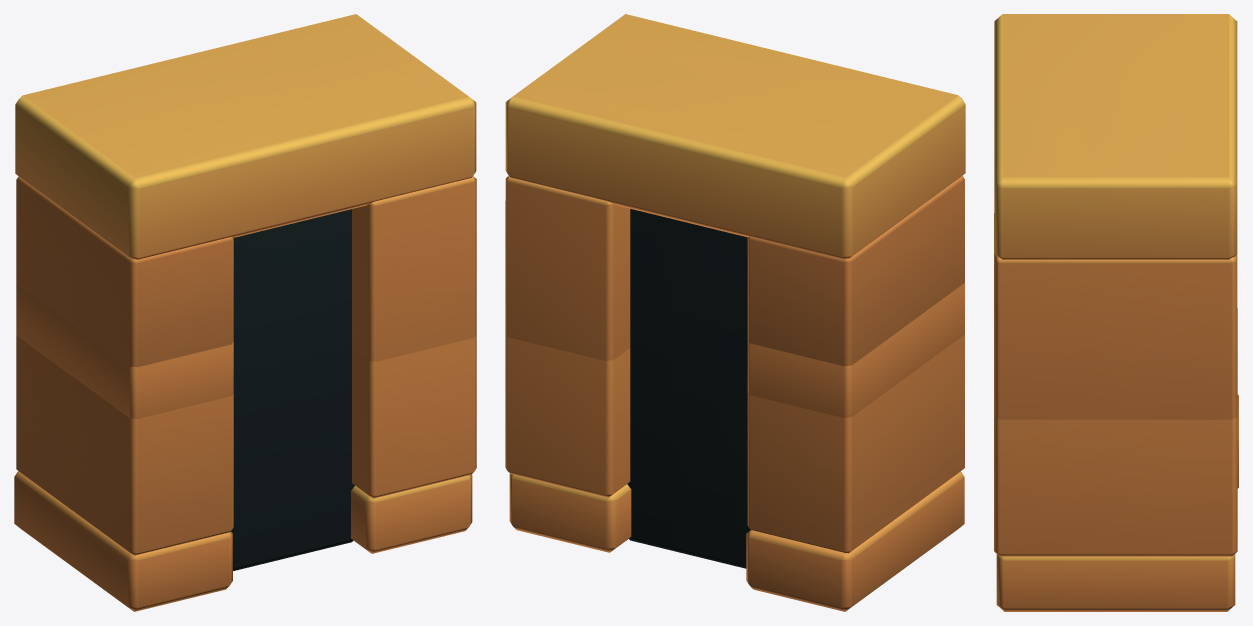
The model's file is entrance_6.fbx.
3 renders of one model, left to right at view 1: azimuth 30°, elevation 25°; view 2: azimuth 150°, elevation 25°; view 3: azimuth 270°, elevation 25°, orthographic.
Visible parts, largest first — view 1: entrance_6; view 2: entrance_6; view 3: entrance_6.
Boxes of the visible parts, x1,y1,x2,y2 form: entrance_6: (14, 14, 476, 611); entrance_6: (505, 14, 965, 611); entrance_6: (994, 14, 1238, 611).
Bounding box in the file's own units: 256 × 306 × 156.
